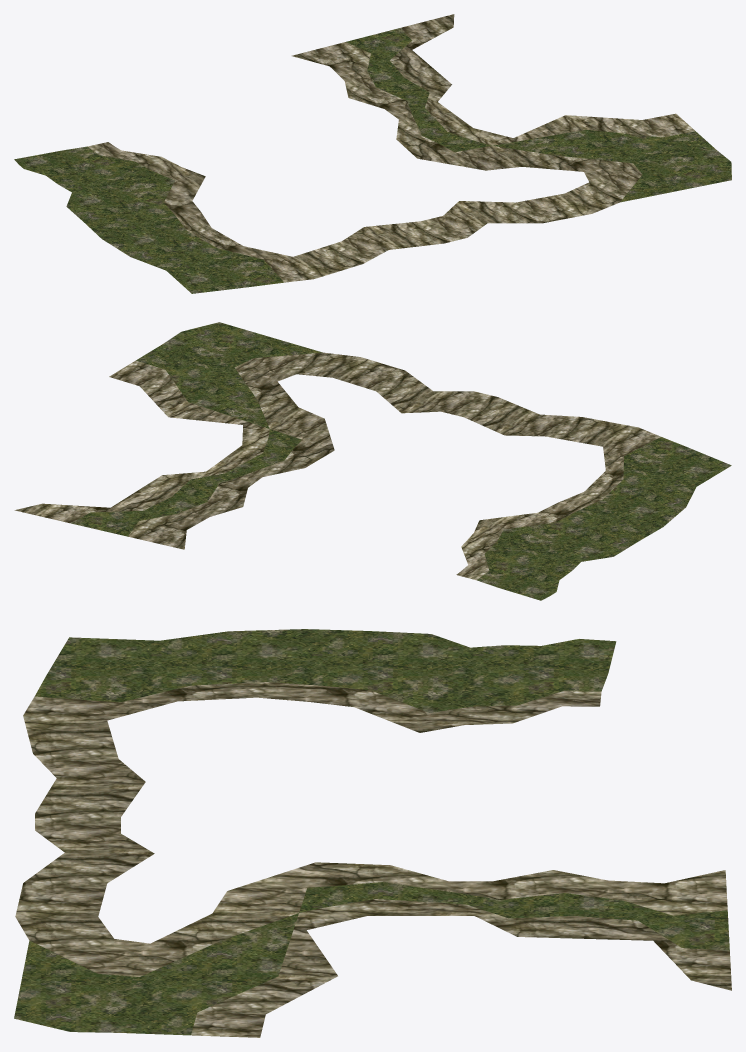
The model's file is CB_NEWPLAYSURFACE_CB_PLAYSURFACE36.fbx.
3 renders of one model, top to bottom at view 1: azimuth 30°, elevation 25°; view 2: azimuth 150°, elevation 25°; view 3: azimuth 270°, elevation 25°, orthographic. The views are drawn at different scales.
Visible parts, largest first — view 1: CB_NEWPLAYSURFACE_CB_PLAYSURFACE36; view 2: CB_NEWPLAYSURFACE_CB_PLAYSURFACE36; view 3: CB_NEWPLAYSURFACE_CB_PLAYSURFACE36.
Boxes of the visible parts, left/top/right/bottom form: CB_NEWPLAYSURFACE_CB_PLAYSURFACE36: left=14, top=14, right=731, bottom=293; CB_NEWPLAYSURFACE_CB_PLAYSURFACE36: left=14, top=322, right=731, bottom=600; CB_NEWPLAYSURFACE_CB_PLAYSURFACE36: left=14, top=629, right=731, bottom=1037.
Bounding box in the file's own units: 498151 × 1053 × 369723.
2 materials, 2 textured.
